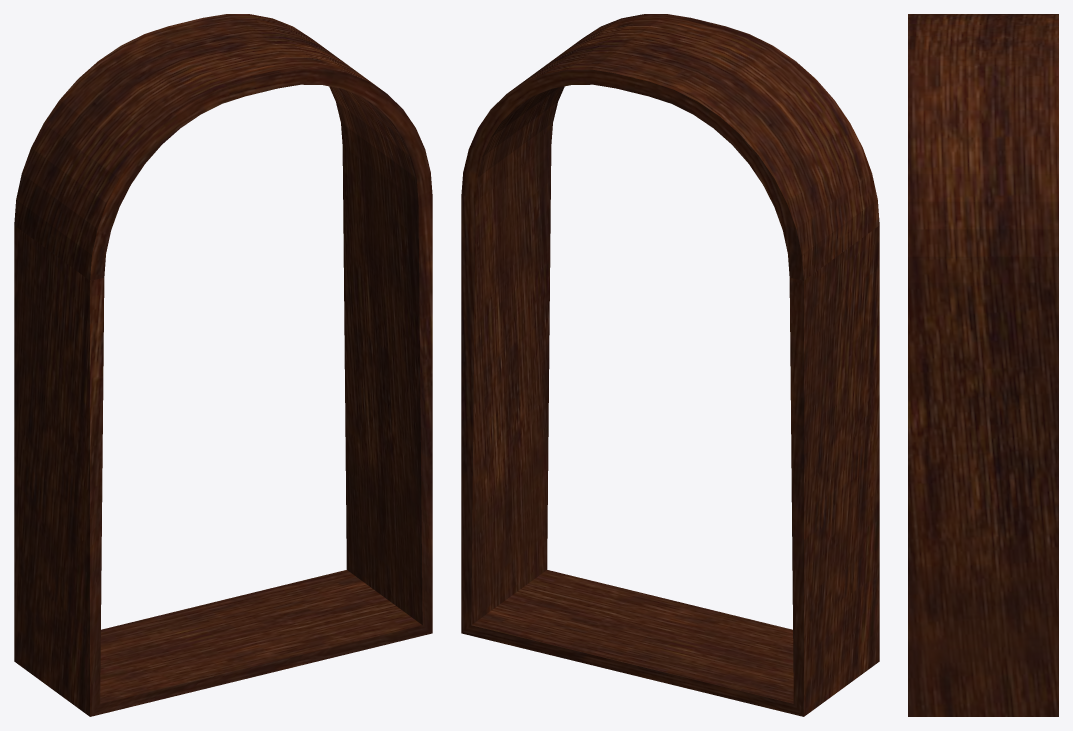
File: window_circle.fbx
The picture shows the model from 3 angles, left to right: view 1: azimuth 30°, elevation 25°; view 2: azimuth 150°, elevation 25°; view 3: azimuth 270°, elevation 25°; orthographic projection.
Visible parts, largest first — view 1: window_circle; view 2: window_circle; view 3: window_circle.
Boxes of the visible parts, x1,y1,x2,y2 form: window_circle: (14,14,432,716); window_circle: (461,14,879,716); window_circle: (908,14,1058,716).
Bounding box in the file's own units: 120 × 200 × 46.
